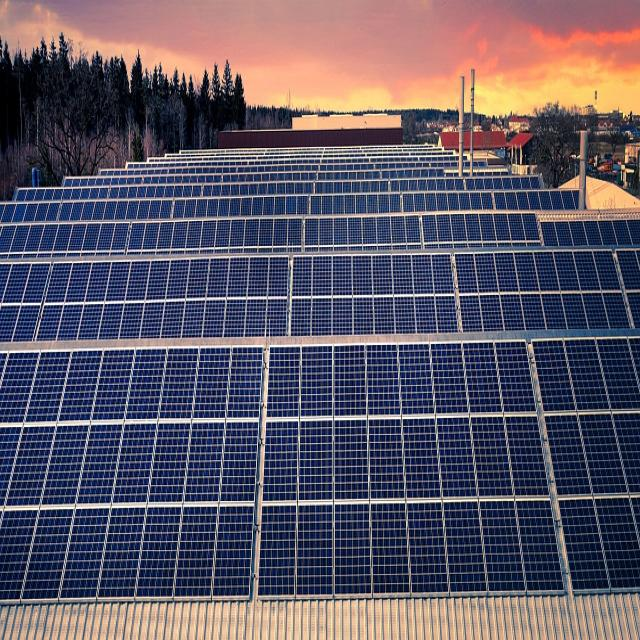clean-solar-panel: (1, 148, 640, 615)
